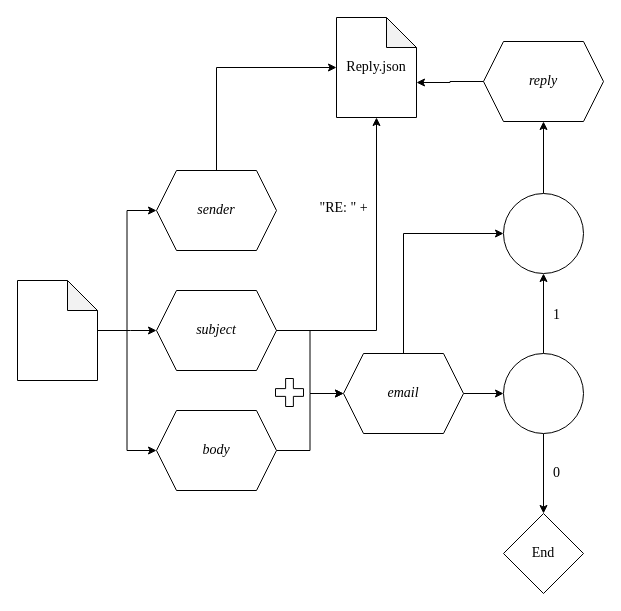
This 621x611 diagram has some shape labels left out. Each missing label, with the box of its shape:
Classifier: (502, 352, 584, 434)
Email.json: (16, 280, 98, 380)
Reply generator: (502, 192, 584, 274)
